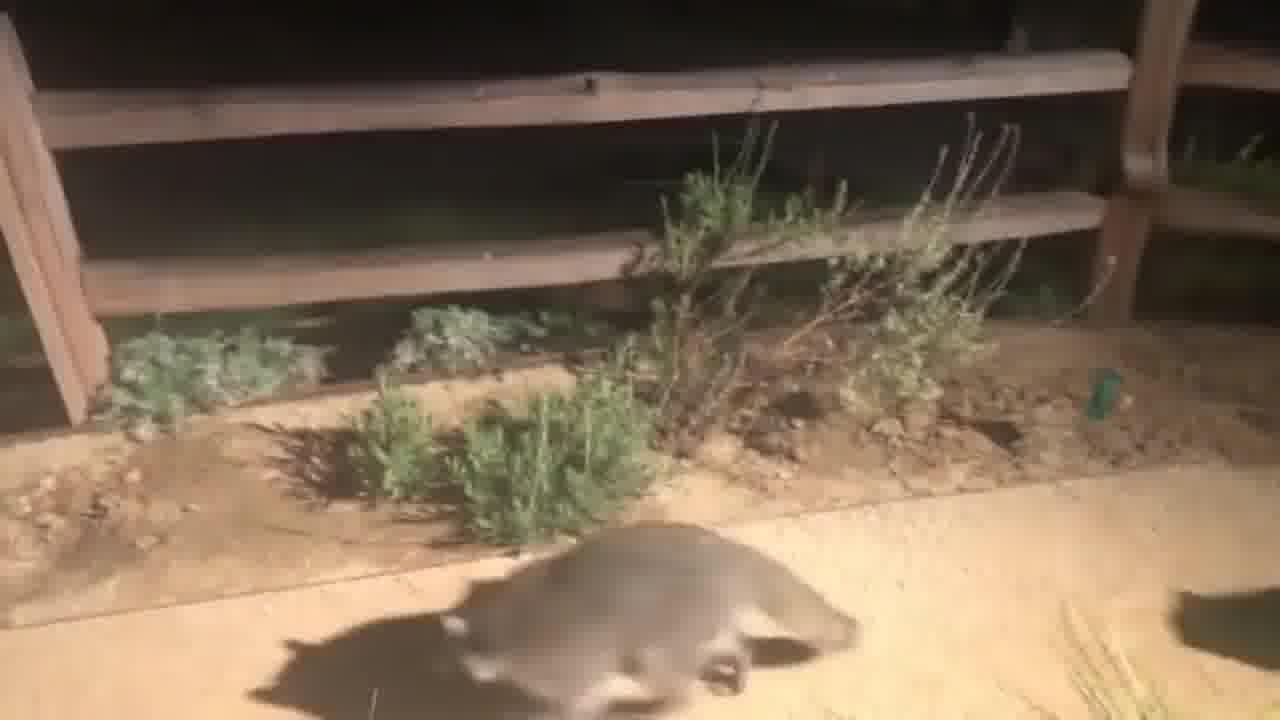raccoon: (447, 521, 847, 720)
